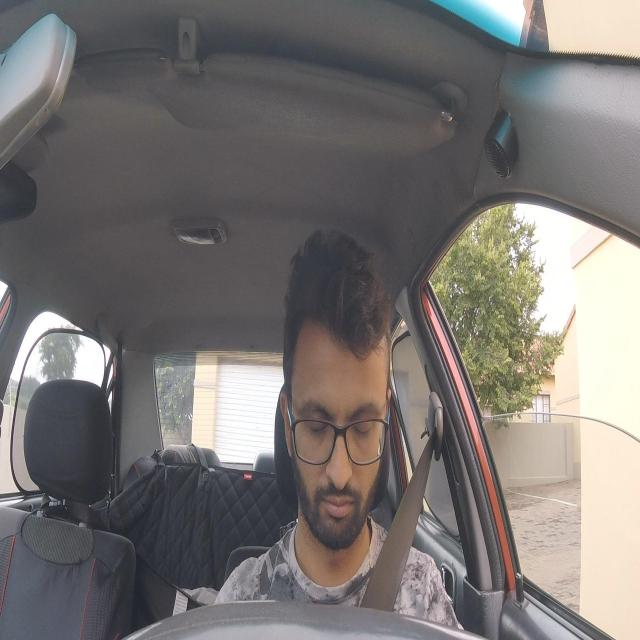close: (349, 394, 383, 442), (302, 394, 331, 439)
